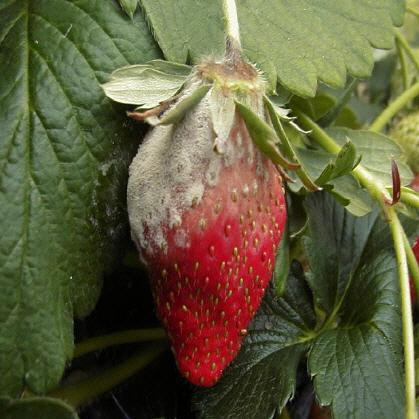Gray Mold: (125, 82, 285, 271)
